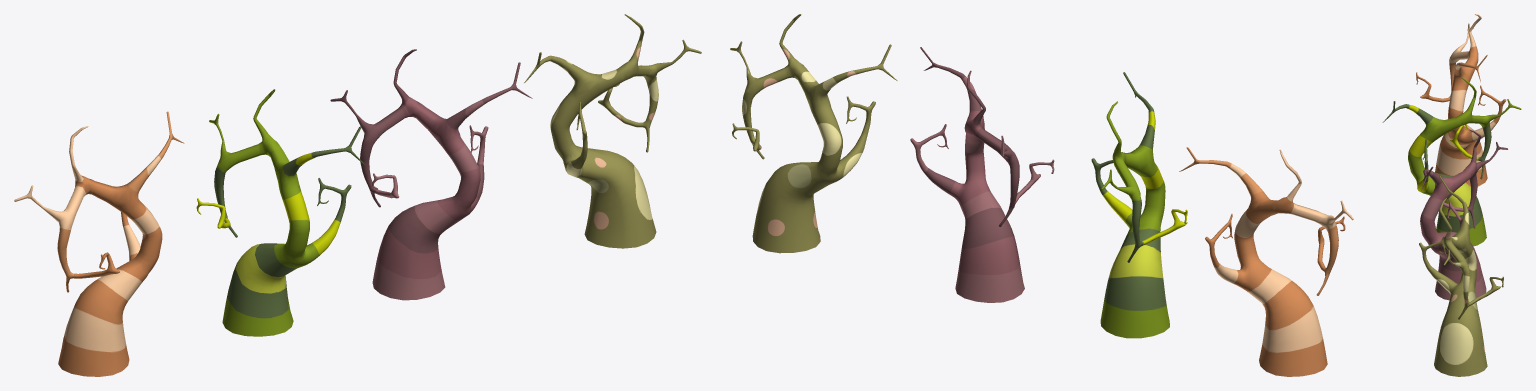
Rendered from Tree_Orange.glb.
3 renders of one model, left to right at view 1: azimuth 30°, elevation 25°; view 2: azimuth 150°, elevation 25°; view 3: azimuth 270°, elevation 25°, orthographic. The views are drawn at different scales.
Parts seen in each view (by area): view 1: tree_02 02, tree_02 04, tree_02 03, tree_02 01; view 2: tree_02 04, tree_02 01, tree_02 03, tree_02 02; view 3: tree_02 01, tree_02 03, tree_02 04, tree_02 02.
Boxes of the visible parts, x1,y1,x2,y2 form: tree_02 02: (330,49,532,300); tree_02 04: (14,111,184,376); tree_02 03: (196,89,364,336); tree_02 01: (524,14,701,248); tree_02 04: (1179,147,1353,376); tree_02 01: (730,14,897,253); tree_02 03: (1091,72,1187,338); tree_02 02: (910,47,1054,302); tree_02 01: (1419,176,1503,376); tree_02 03: (1382,77,1521,246); tree_02 04: (1416,14,1506,186); tree_02 02: (1420,129,1507,300).
Bounding box in the file's own units: 0.9381 × 0.3056 × 0.2324.
Materials: 4 (4 with a texture image).
